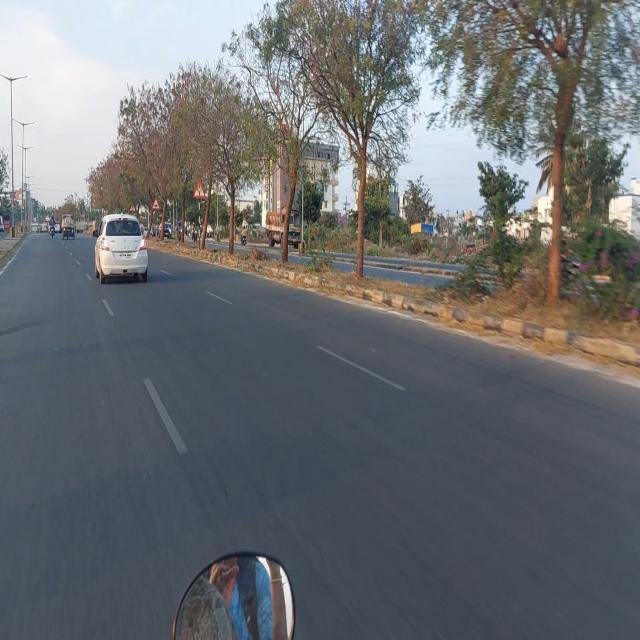bien_cam: (192, 178, 206, 202), (152, 196, 160, 211), (130, 201, 136, 215)
